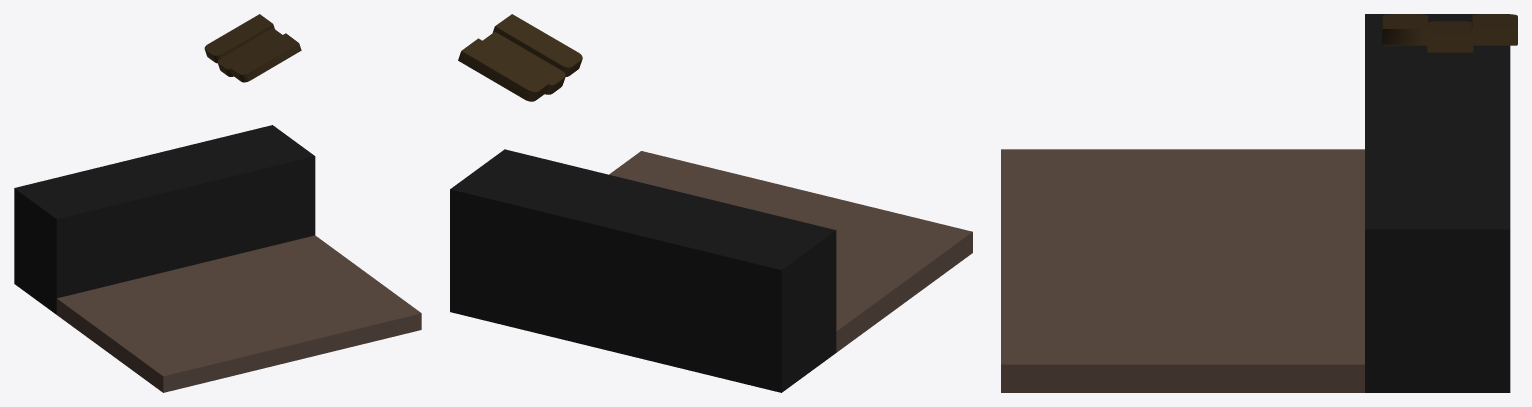
Rendered from Objects1toPaint.obj.
The picture shows the model from 3 angles, left to right: view 1: azimuth 30°, elevation 25°; view 2: azimuth 150°, elevation 25°; view 3: azimuth 270°, elevation 25°; orthographic projection. The views are drawn at different scales.
Visible parts, largest first — view 1: ConcreteShellDock_WB AllObjects AllObjects Objects, AllObjects AllObjects Objects Sand_WB, AllObjects AllObjects Objects RoofBeam1, AllObjects AllObjects Objects RoofBeam3, AllObjects AllObjects Objects RoofBeam2; view 2: ConcreteShellDock_WB AllObjects AllObjects Objects, AllObjects AllObjects Objects Sand_WB, AllObjects AllObjects Objects RoofBeam3, AllObjects AllObjects Objects RoofBeam1, AllObjects AllObjects Objects RoofBeam2; view 3: AllObjects AllObjects Objects Sand_WB, ConcreteShellDock_WB AllObjects AllObjects Objects, AllObjects AllObjects Objects RoofBeam3, AllObjects AllObjects Objects RoofBeam1, AllObjects AllObjects Objects RoofBeam2.
Part boxes in pixels (x1,y1,x2,y2): ConcreteShellDock_WB AllObjects AllObjects Objects: [14, 125, 315, 314]; AllObjects AllObjects Objects Sand_WB: [56, 235, 421, 392]; AllObjects AllObjects Objects RoofBeam1: [231, 33, 301, 82]; AllObjects AllObjects Objects RoofBeam3: [204, 14, 274, 63]; AllObjects AllObjects Objects RoofBeam2: [217, 28, 282, 76]; ConcreteShellDock_WB AllObjects AllObjects Objects: [450, 149, 836, 392]; AllObjects AllObjects Objects Sand_WB: [609, 151, 972, 352]; AllObjects AllObjects Objects RoofBeam3: [458, 38, 548, 101]; AllObjects AllObjects Objects RoofBeam1: [492, 14, 582, 76]; AllObjects AllObjects Objects RoofBeam2: [482, 32, 565, 94]; AllObjects AllObjects Objects Sand_WB: [1001, 149, 1364, 392]; ConcreteShellDock_WB AllObjects AllObjects Objects: [1365, 14, 1510, 392]; AllObjects AllObjects Objects RoofBeam3: [1471, 14, 1517, 45]; AllObjects AllObjects Objects RoofBeam1: [1382, 14, 1428, 45]; AllObjects AllObjects Objects RoofBeam2: [1427, 21, 1473, 52].
Size of the model in its own units: 6 by 4.62 by 6.09.
